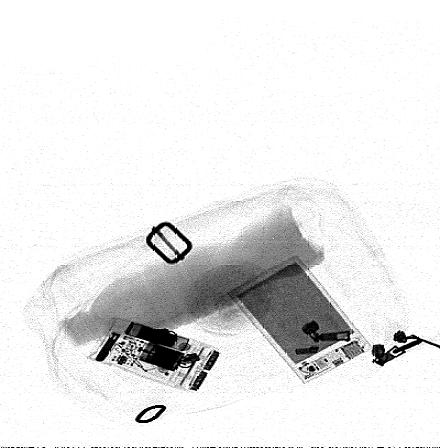Powerbank: (227, 254, 372, 385)
